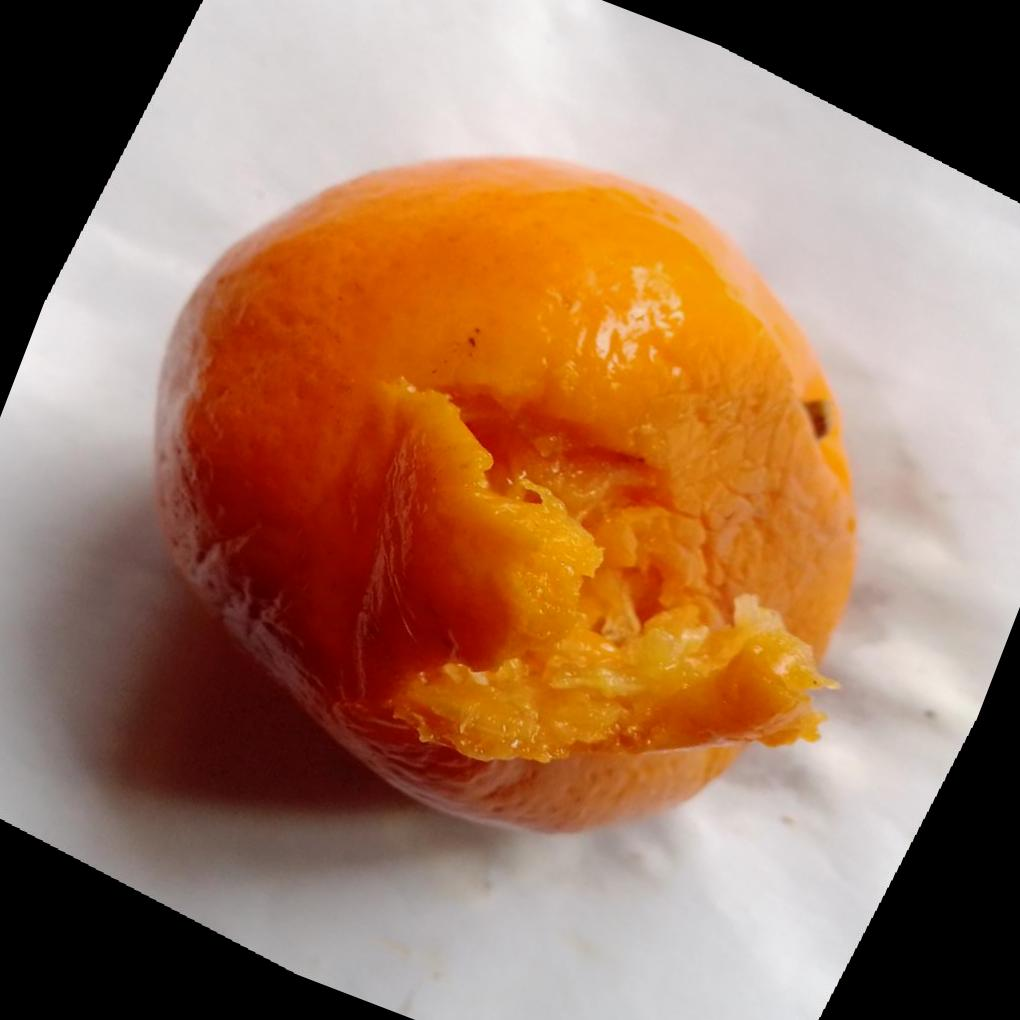FreshOrange: (151, 154, 863, 839)
